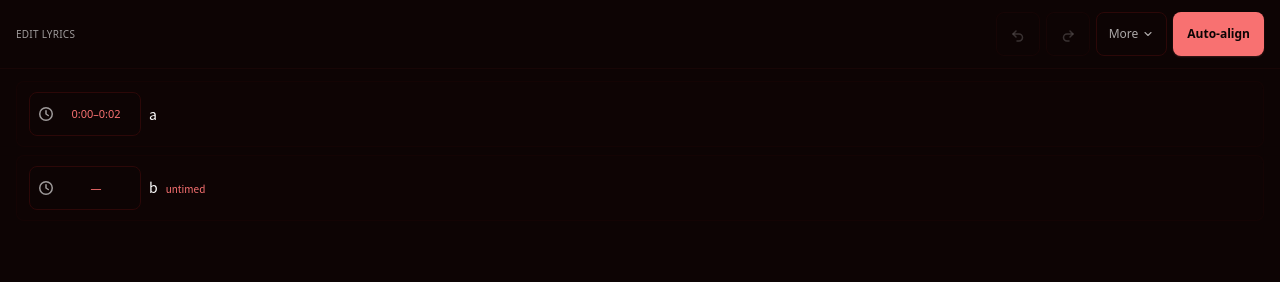
it: EditMode › a new edit clears the redo stack
Click the button "b" at (186, 188), box x1=149 y1=177 x2=1243 y2=199
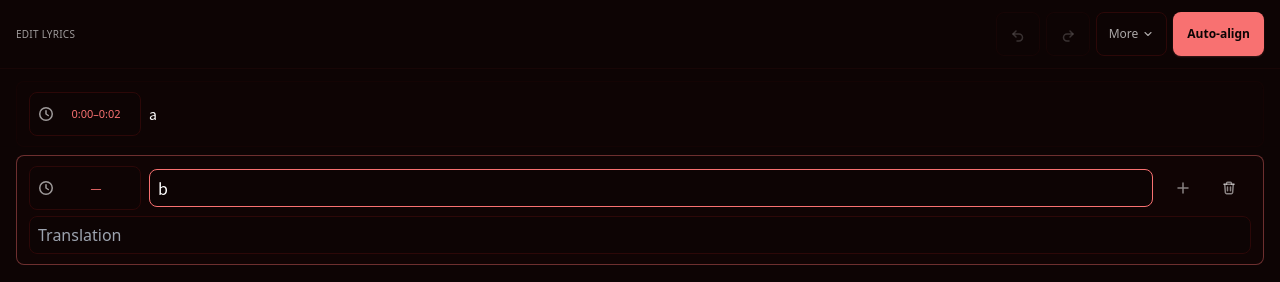
Replace the text in the field named "Original text" with "bb" at (651, 188), box x1=149 y1=169 x2=1153 y2=207
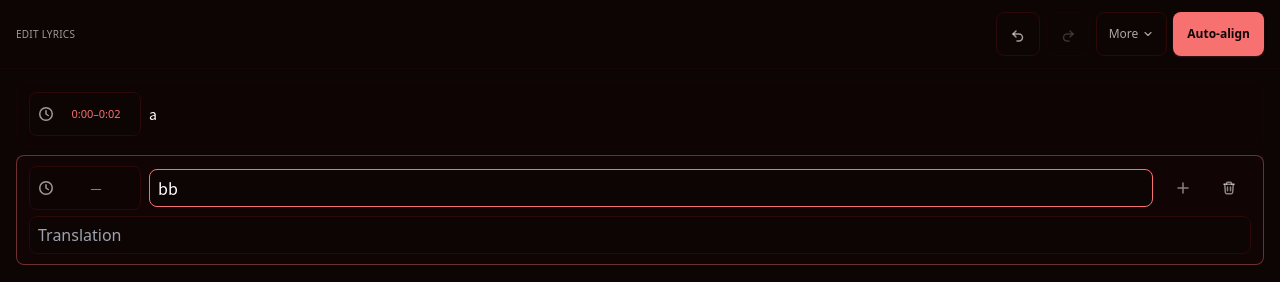
Click the button named "Undo" at (1018, 34), box x1=996 y1=12 x2=1040 y2=56
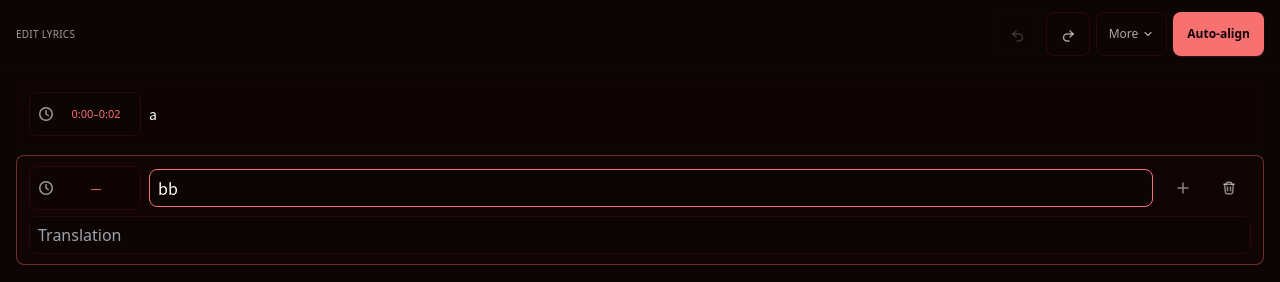
Expected: the button named "Redo" is enabled, x1=1046 y1=12 x2=1090 y2=56
Click the button "a" at (153, 114), box x1=149 y1=104 x2=1243 y2=124
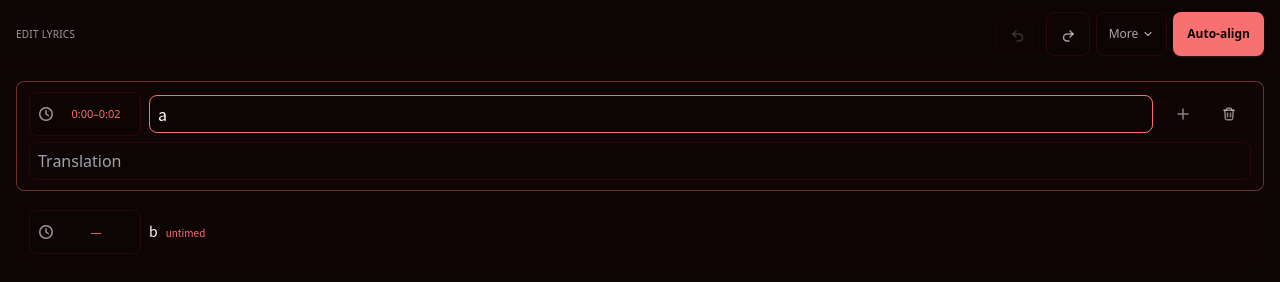
Replace the text in the field named "Original text" with "aa" at (651, 114), box x1=149 y1=95 x2=1153 y2=133
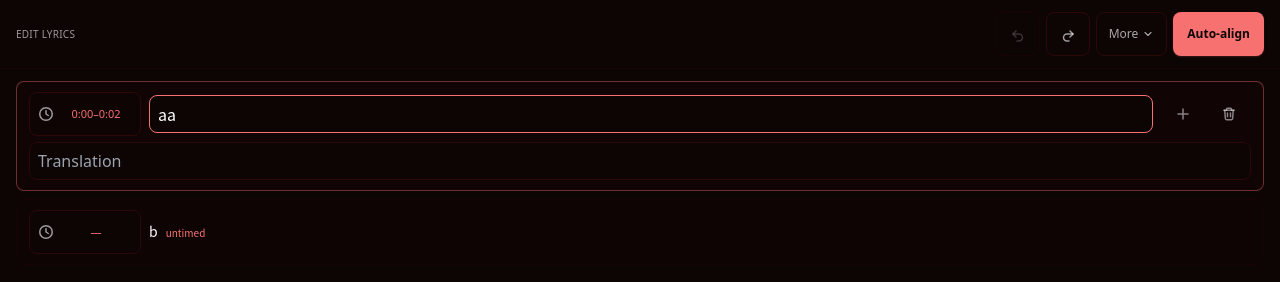
Leave the field named "Original text", box x1=149 y1=95 x2=1153 y2=133
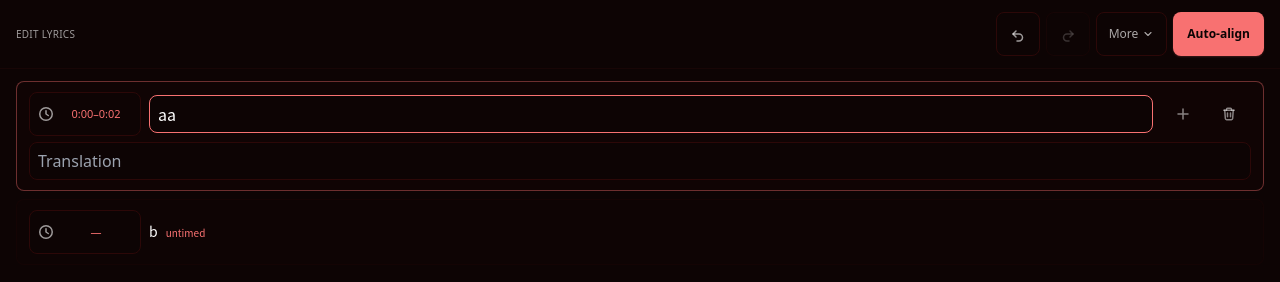
Expected: the button named "Redo" is disabled, x1=1046 y1=12 x2=1090 y2=56
